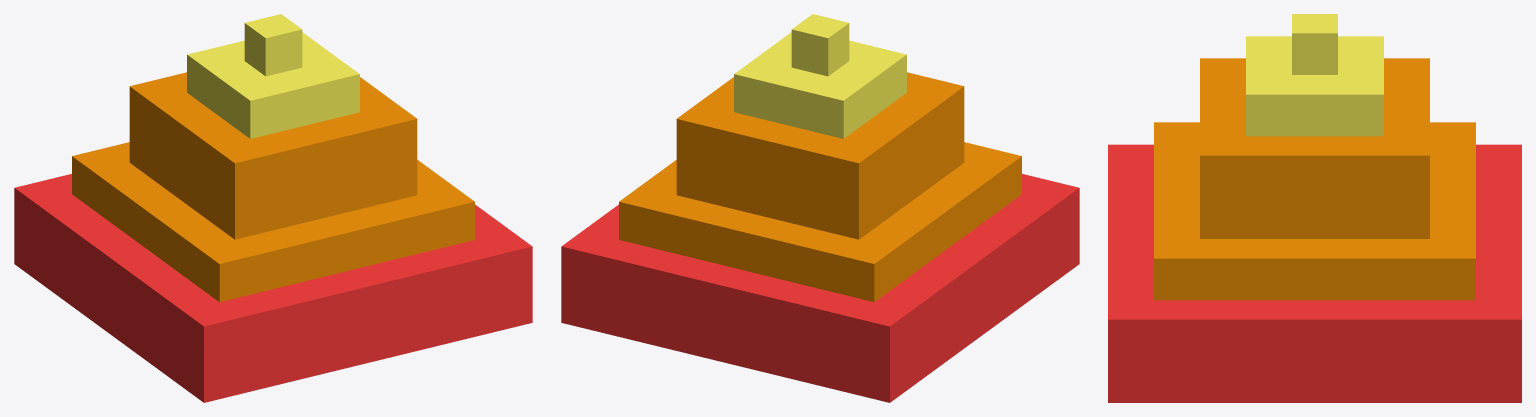
The picture shows the model from 3 angles, left to right: view 1: azimuth 30°, elevation 25°; view 2: azimuth 150°, elevation 25°; view 3: azimuth 270°, elevation 25°; orthographic projection. The views are drawn at different scales.
Parts seen in each view (by area): view 1: pCube4413, pCube4391, pCube4410, pCube3929, pCube4082, pCube4054, pCube3874, pCube3927, pCube3928, pCube4386, pCube3924, pCube3926 (+63 smaller); view 2: pCube4413, pCube4392, pCube4406, pCube3922, pCube4063, pCube4060, pCube3877, pCube3920, pCube3921, pCube4389, pCube3917, pCube3919 (+63 smaller); view 3: pCube3912, pCube3913, pCube3914, pCube3915, pCube3916, pCube3921, pCube3928, pCube4069, pCube4070, pCube4071, pCube4073, pCube4074 (+67 smaller).
Boxes of the visible parts, x1,y1,x2,y2 form: pCube4413: [244, 14, 302, 76]; pCube4391: [214, 139, 271, 201]; pCube4410: [229, 76, 286, 138]; pCube3929: [198, 240, 255, 302]; pCube4082: [183, 302, 240, 364]; pCube4054: [183, 349, 240, 402]; pCube3874: [214, 186, 271, 239]; pCube3927: [381, 195, 438, 257]; pCube3928: [417, 186, 474, 248]; pCube4386: [323, 112, 380, 174]; pCube3924: [235, 231, 292, 293]; pCube3926: [345, 204, 401, 266]; pCube4413: [791, 14, 849, 76]; pCube4392: [822, 139, 879, 201]; pCube4406: [807, 76, 864, 138]; pCube3922: [838, 240, 895, 302]; pCube4063: [853, 302, 910, 364]; pCube4060: [853, 349, 910, 402]; pCube3877: [822, 186, 879, 239]; pCube3920: [655, 195, 712, 257]; pCube3921: [619, 186, 676, 248]; pCube4389: [713, 112, 770, 174]; pCube3917: [801, 231, 858, 293]; pCube3919: [692, 204, 748, 266]; pCube3912: [1384, 239, 1429, 300]; pCube3913: [1200, 239, 1245, 300]; pCube3914: [1292, 239, 1337, 300]; pCube3915: [1246, 239, 1291, 300]; pCube3916: [1338, 239, 1383, 300]; pCube3921: [1430, 239, 1475, 300]; pCube3928: [1154, 239, 1199, 300]; pCube4069: [1154, 300, 1199, 361]; pCube4070: [1430, 300, 1475, 361]; pCube4071: [1108, 300, 1153, 361]; pCube4073: [1476, 300, 1521, 361]; pCube4074: [1384, 300, 1429, 361].
Bounding box in the file's own units: 9 × 7 × 9.
